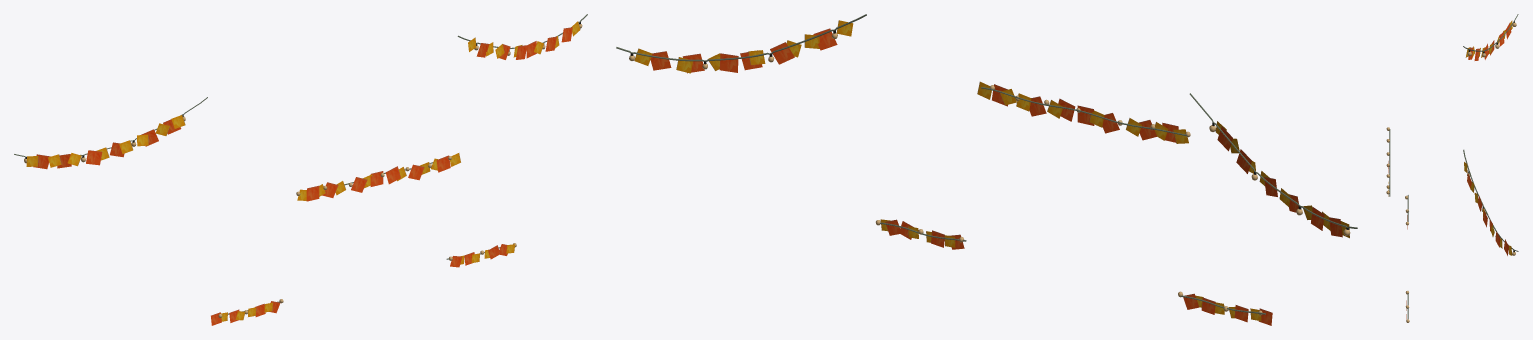
File: harvest-garland-n.glb
3 views of the same model, side by side, from view 1: azimuth 30°, elevation 25°; view 2: azimuth 150°, elevation 25°; view 3: azimuth 270°, elevation 25° (orthographic). The views are drawn at different scales.
Parts seen in each view (by area): view 1: EvtobjHarvestGarlandN_node4, EvtobjHarvestGarlandN_node5; view 2: EvtobjHarvestGarlandN_node4, EvtobjHarvestGarlandN_node5; view 3: EvtobjHarvestGarlandN_node4, EvtobjHarvestGarlandN_node5.
Part boxes in pixels (x1,y1,x2,y2): EvtobjHarvestGarlandN_node4: (26, 21, 580, 325); EvtobjHarvestGarlandN_node5: (14, 14, 587, 317); EvtobjHarvestGarlandN_node4: (634, 20, 1349, 325); EvtobjHarvestGarlandN_node5: (616, 14, 1357, 315); EvtobjHarvestGarlandN_node4: (1388, 20, 1512, 319); EvtobjHarvestGarlandN_node5: (1386, 14, 1518, 322).
Bounding box in the file's own units: 101 × 33.63 × 23.68.
2 materials, 2 textured.
